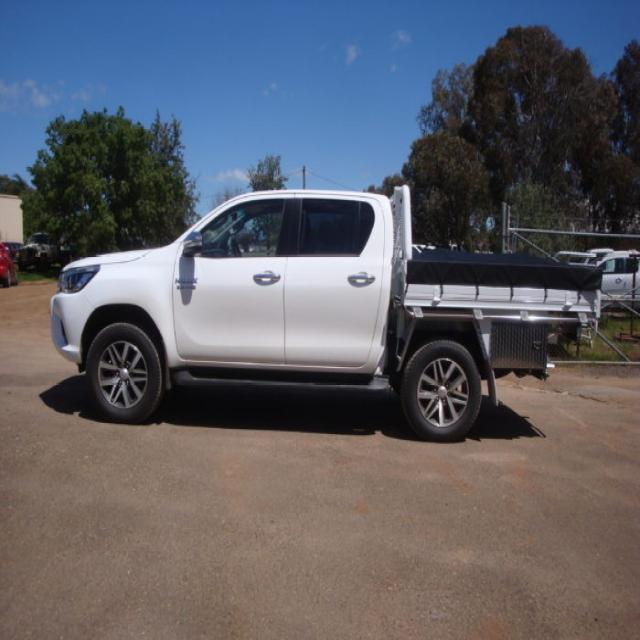light_vehicle: (45, 175, 605, 454)
